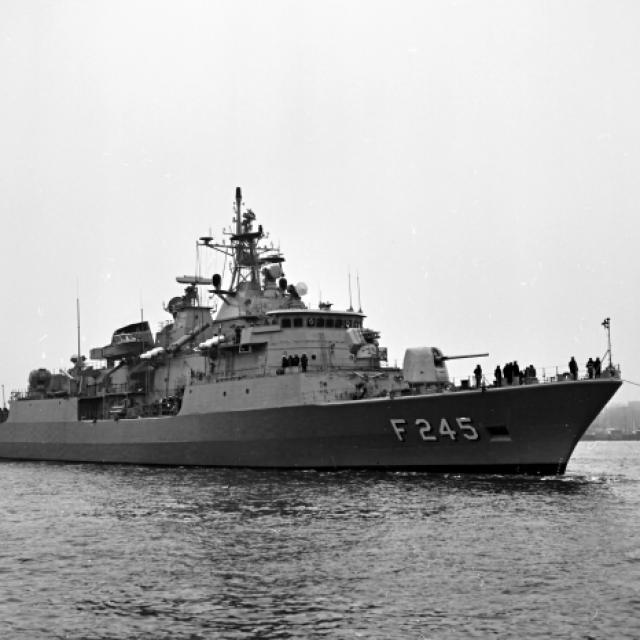Fragata: (1, 153, 636, 484)
